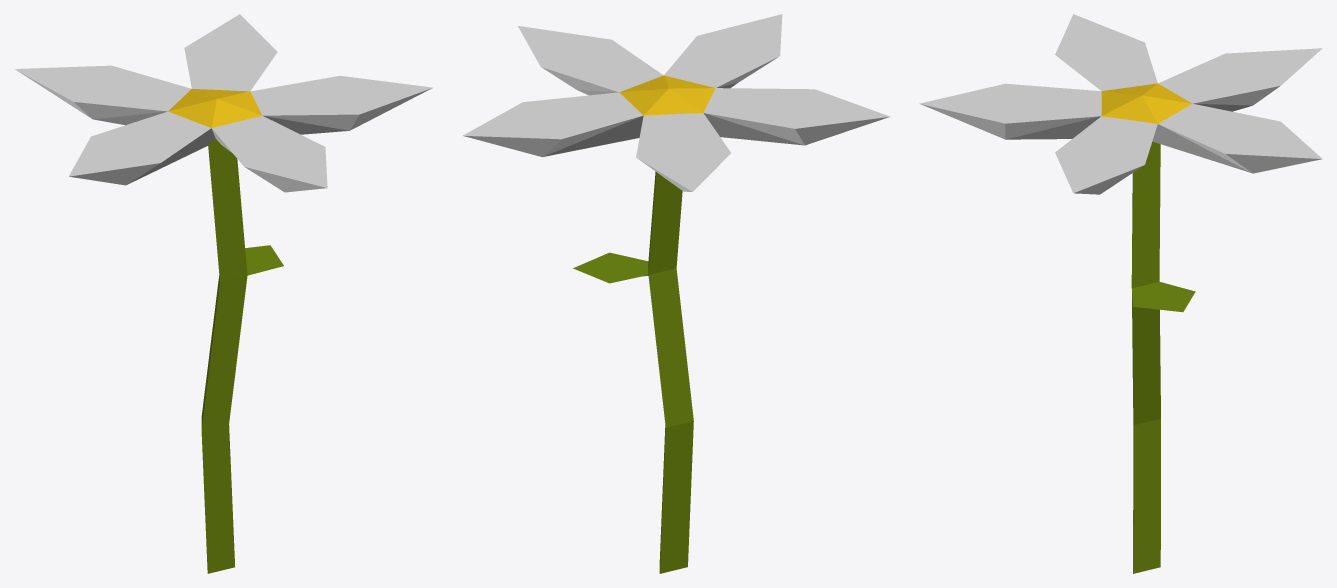
File: Daisy.fbx
3 renders of one model, left to right at view 1: azimuth 30°, elevation 25°; view 2: azimuth 150°, elevation 25°; view 3: azimuth 270°, elevation 25°, orthographic. The views are drawn at different scales.
Visible parts, largest first — view 1: Daisy; view 2: Daisy; view 3: Daisy.
Boxes of the visible parts, left/top/right/bottom form: Daisy: left=15, top=14, right=432, bottom=573; Daisy: left=463, top=14, right=889, bottom=573; Daisy: left=919, top=14, right=1322, bottom=573.
Bounding box in the file's own units: 28.77 × 35.27 × 27.36.
